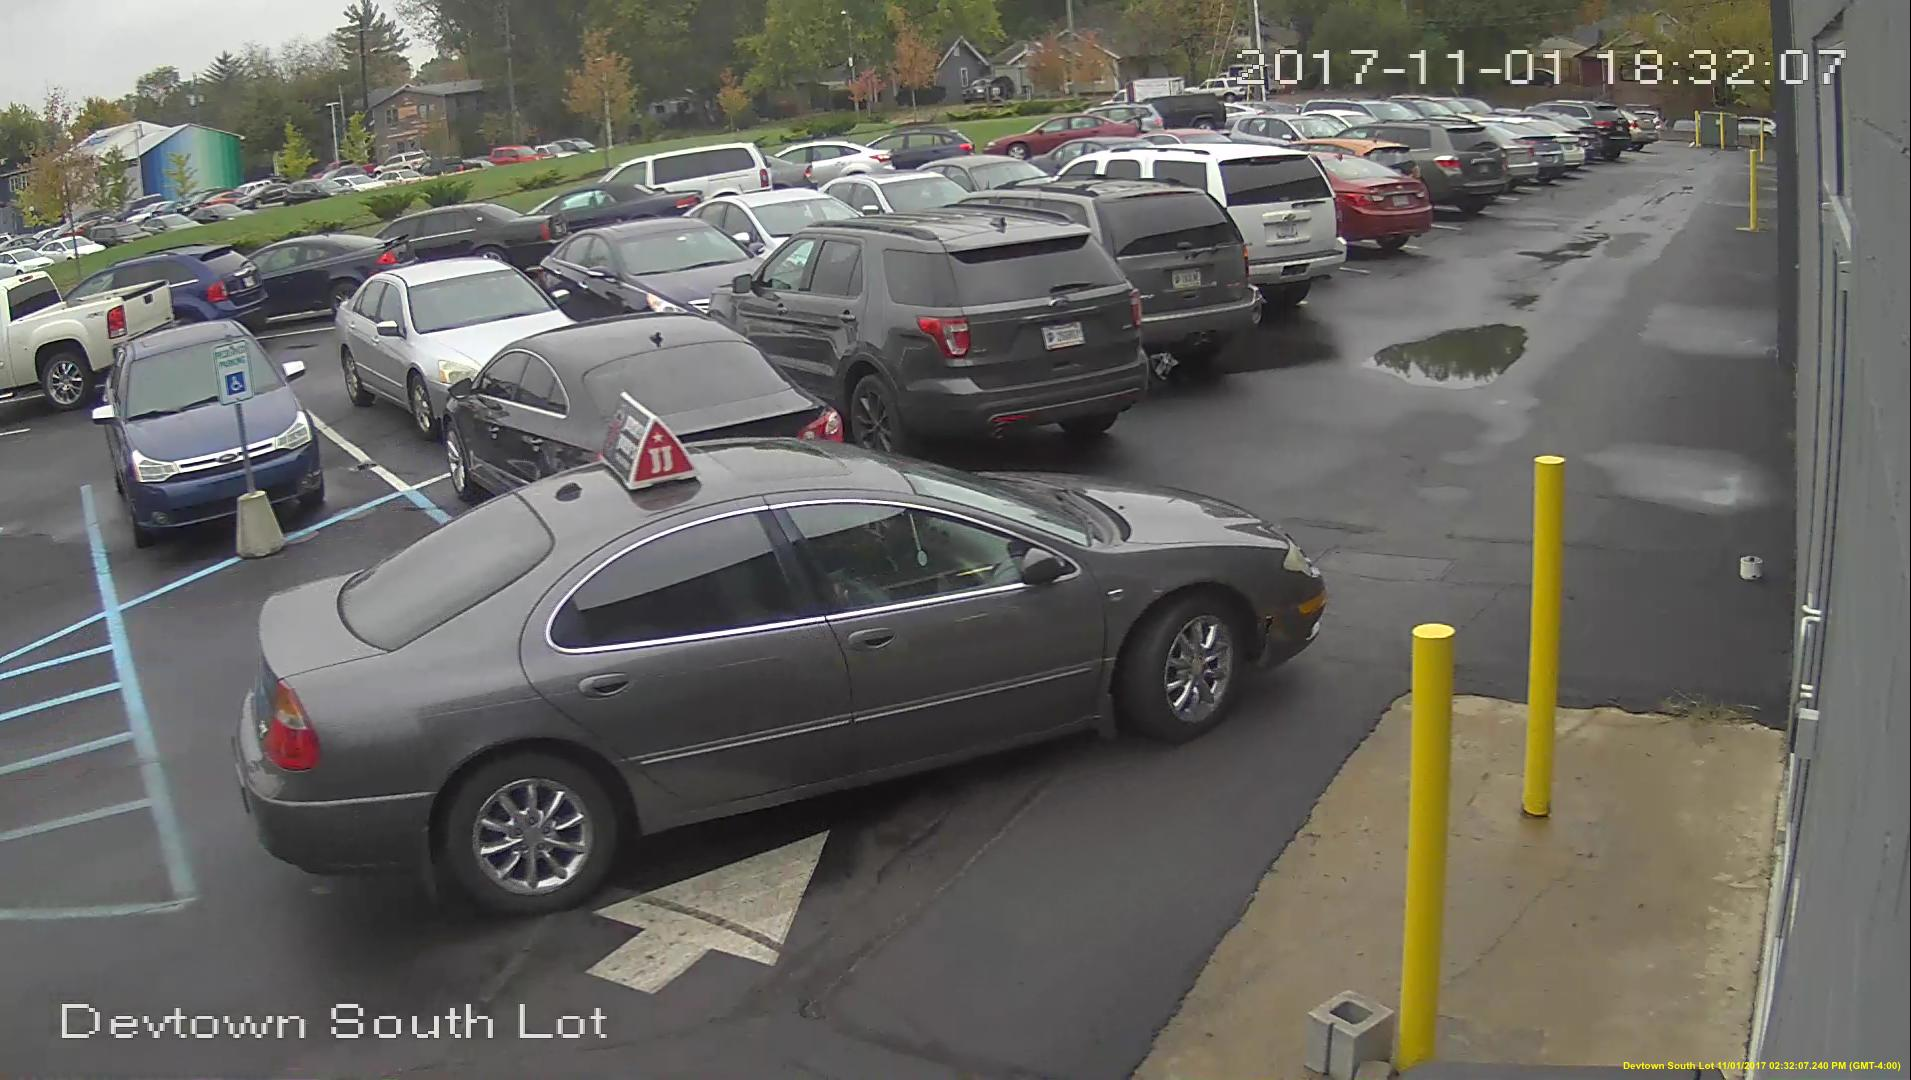jimmy_johns: (602, 391, 693, 496)
